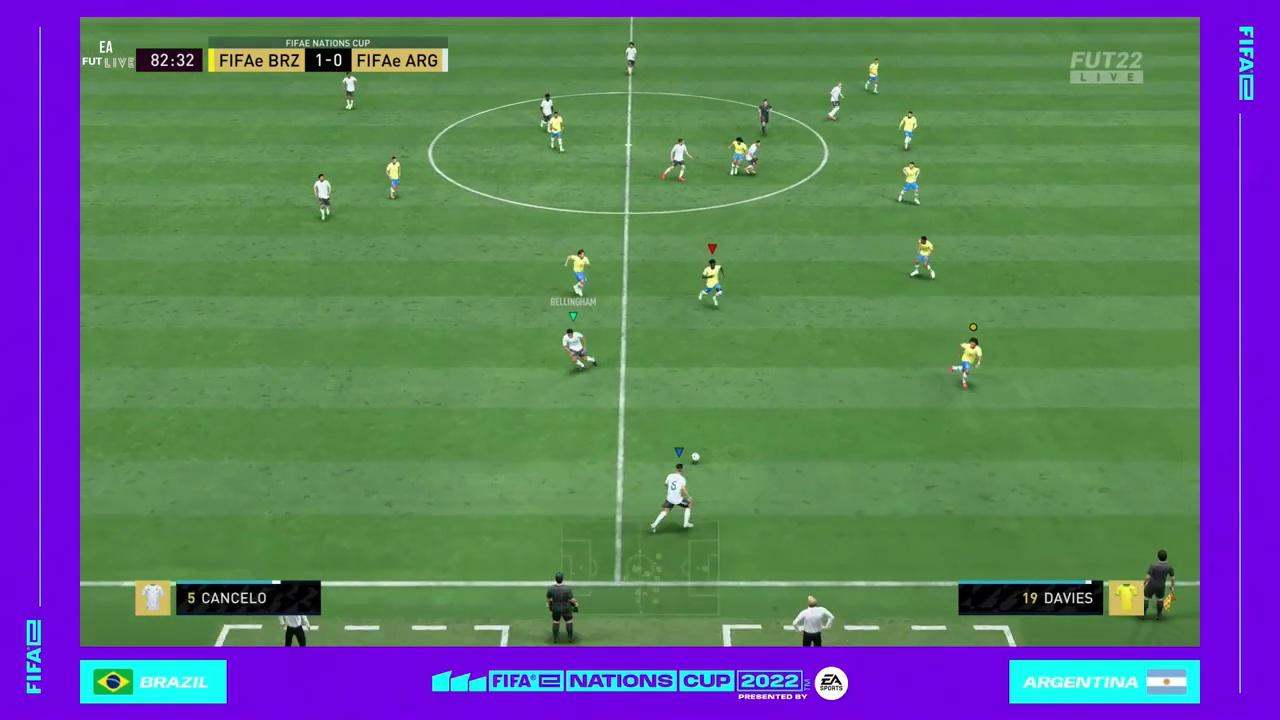scoreboard: (204, 43, 450, 77)
timestamp: (135, 45, 206, 74)
